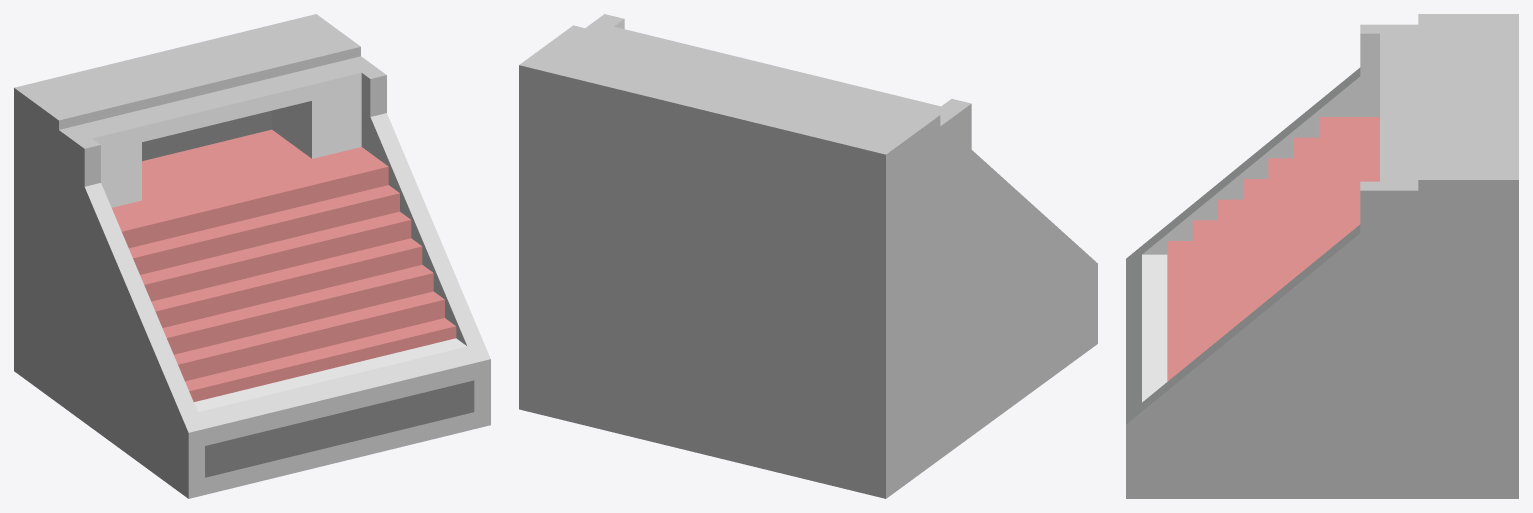
Rendered from grandStand.glb.
3 views of the same model, side by side, from view 1: azimuth 30°, elevation 25°; view 2: azimuth 150°, elevation 25°; view 3: azimuth 270°, elevation 25° (orthographic). The views are drawn at different scales.
Parts seen in each view (by area): view 1: grandStand; view 2: grandStand; view 3: grandStand.
Boxes of the visible parts, x1,y1,x2,y2 form: grandStand: (14,14,490,498); grandStand: (519,14,1097,498); grandStand: (1126,14,1518,498).
Bounding box in the file's own units: 5 × 4.48 × 5.
